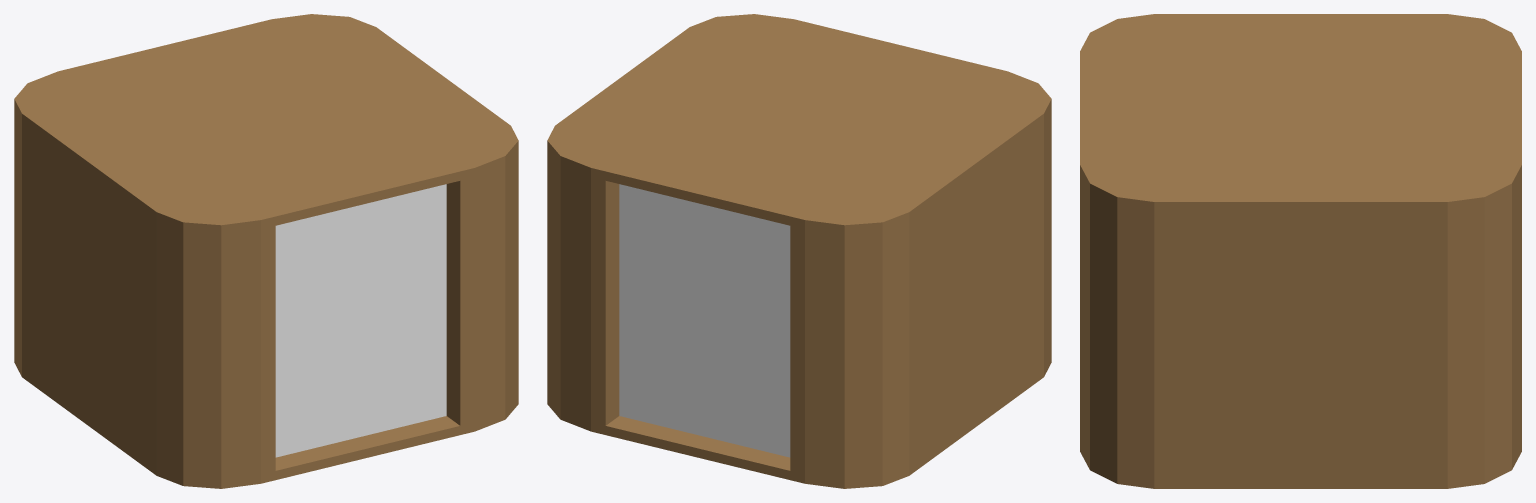
Rendered from Kitchen Paper.fbx.
3 renders of one model, left to right at view 1: azimuth 30°, elevation 25°; view 2: azimuth 150°, elevation 25°; view 3: azimuth 270°, elevation 25°, orthographic. The views are drawn at different scales.
Parts seen in each view (by area): view 1: Kitchen Paper; view 2: Kitchen Paper; view 3: Kitchen Paper.
Boxes of the visible parts, x1,y1,x2,y2 form: Kitchen Paper: (14, 14, 518, 488); Kitchen Paper: (547, 14, 1051, 488); Kitchen Paper: (1080, 14, 1521, 488).
Bounding box in the file's own units: 0.1088 × 0.0774 × 0.108.
